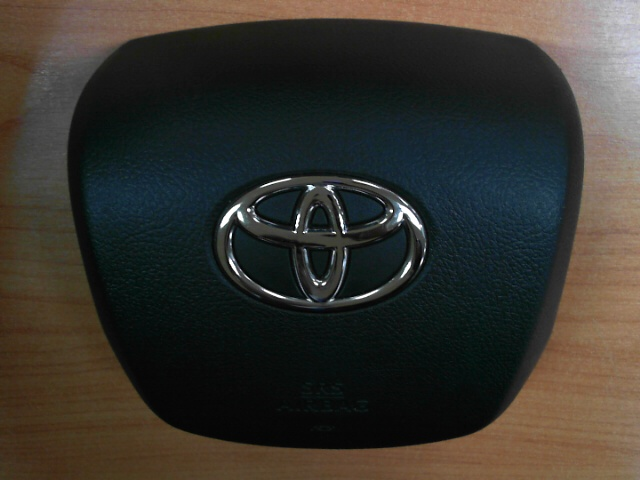AirbagV2: (67, 19, 578, 449)
